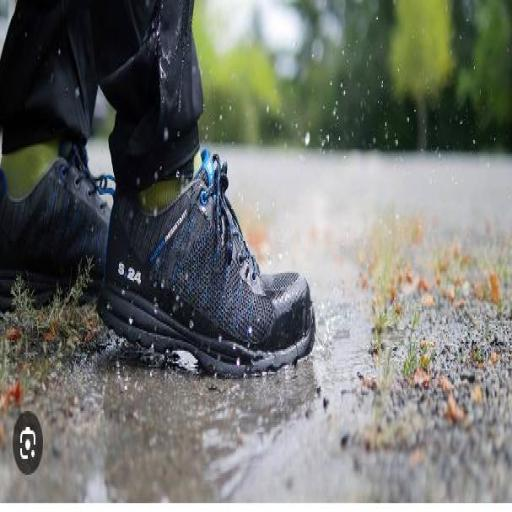safety_boots: (89, 186, 334, 373), (1, 154, 114, 311)
